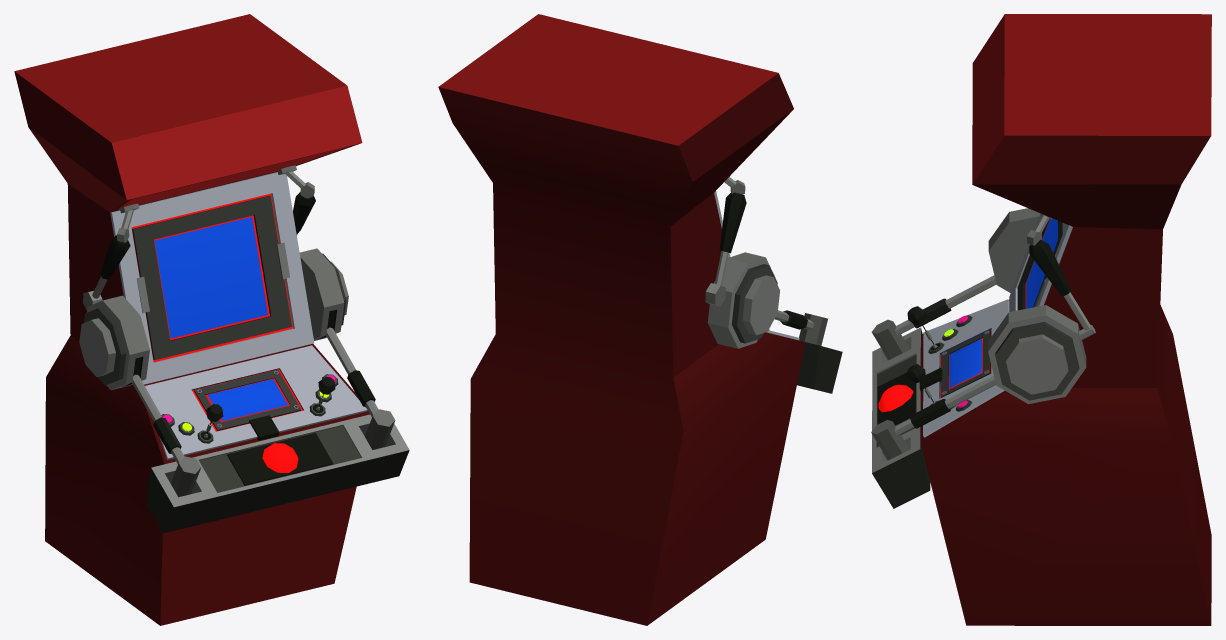
The model's file is Arcade_Machine_Red.glb.
The picture shows the model from 3 angles, left to right: view 1: azimuth 30°, elevation 25°; view 2: azimuth 150°, elevation 25°; view 3: azimuth 270°, elevation 25°; orthographic projection. The views are drawn at different scales.
Visible parts, largest first — view 1: ArcadeMachine_Red; view 2: ArcadeMachine_Red; view 3: ArcadeMachine_Red.
Boxes of the visible parts, x1,y1,x2,y2 form: ArcadeMachine_Red: (14,14,409,625); ArcadeMachine_Red: (438,14,842,625); ArcadeMachine_Red: (871,14,1211,625).
Size of what is drawn, in the model's own units: 1.39 by 2.63 by 1.61.
Materials: 1 (1 with a texture image).
